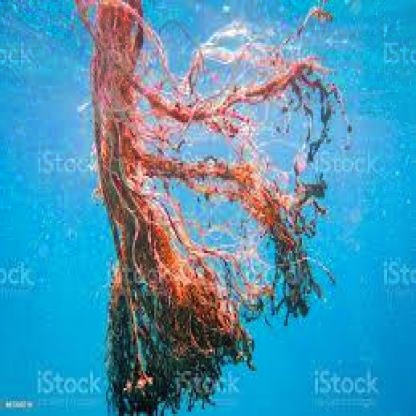net: (87, 13, 339, 409)
